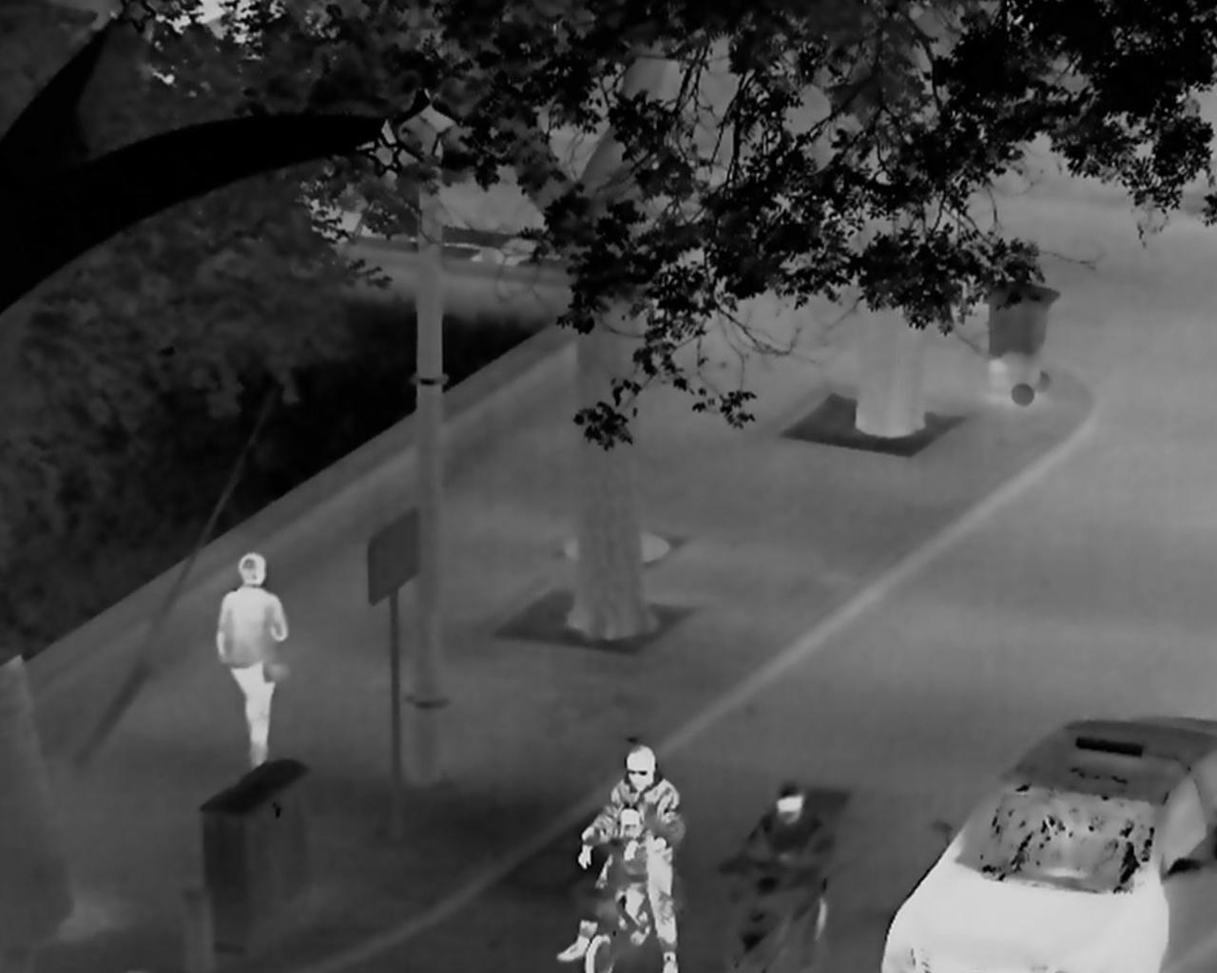person: (554, 735, 687, 973), (718, 781, 831, 973), (214, 548, 289, 771), (579, 807, 655, 944)
